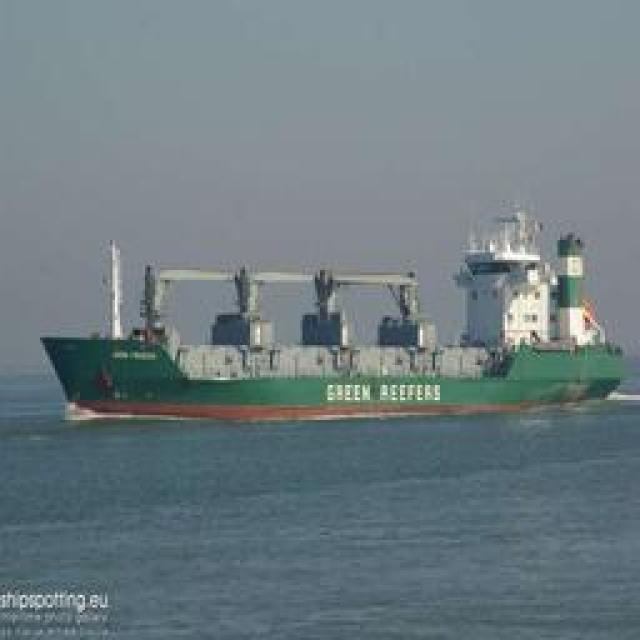CIV_Ship: (31, 242, 629, 420)
